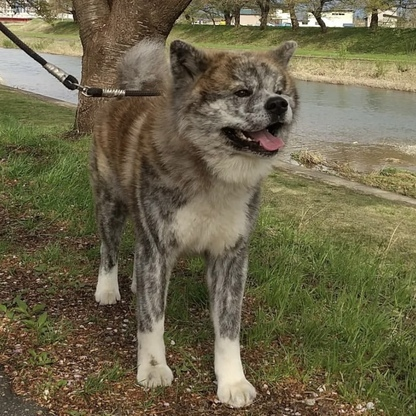akita: (85, 28, 306, 415)
